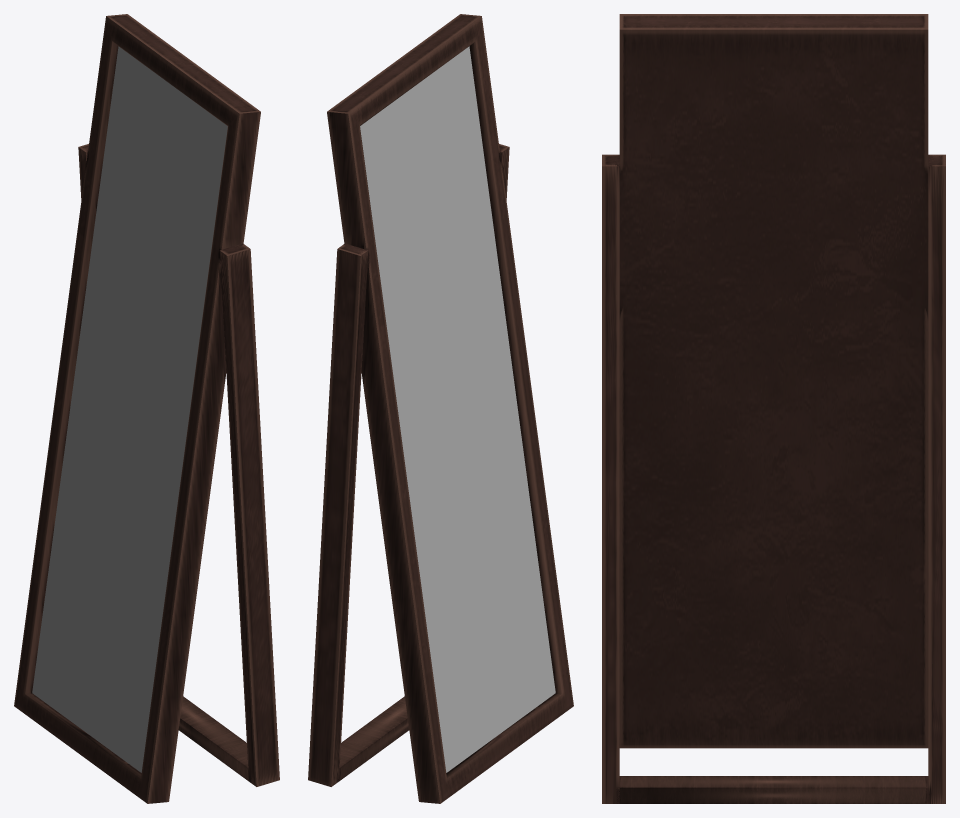
File: mirror (1).fbx
3 renders of one model, left to right at view 1: azimuth 30°, elevation 25°; view 2: azimuth 150°, elevation 25°; view 3: azimuth 270°, elevation 25°, orthographic. The views are drawn at different scales.
Parts seen in each view (by area): view 1: Cube.006, Cube.017; view 2: Cube.006, Cube.017; view 3: Cube.017.
Boxes of the visible parts, x1=… form: Cube.006: x1=32, y1=46, x2=227, y2=772; Cube.017: x1=14, y1=14, x2=279, y2=803; Cube.006: x1=360, y1=46, x2=555, y2=772; Cube.017: x1=308, y1=14, x2=573, y2=803; Cube.017: x1=602, y1=14, x2=945, y2=803.
Size of the model in its own units: 39.64 by 204 by 82.01.
Materials: 2 (2 with a texture image).
